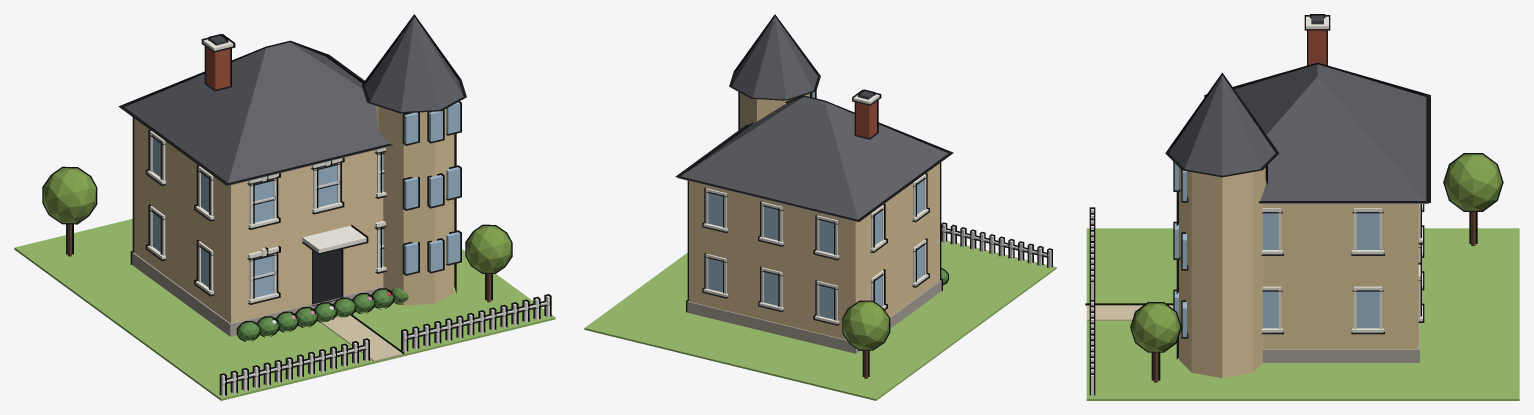
File: Konut_villa_3.fbx
3 views of the same model, side by side, from view 1: azimuth 30°, elevation 25°; view 2: azimuth 150°, elevation 25°; view 3: azimuth 270°, elevation 25° (orthographic). The views are drawn at different scales.
Parts seen in each view (by area): view 1: Konut_villa_3; view 2: Konut_villa_3; view 3: Konut_villa_3.
Boxes of the visible parts, x1,y1,x2,y2 form: Konut_villa_3: [14, 14, 555, 400]; Konut_villa_3: [584, 14, 1056, 400]; Konut_villa_3: [1085, 14, 1519, 400].
Bounding box in the file's own units: 14 × 11.07 × 15.05.
